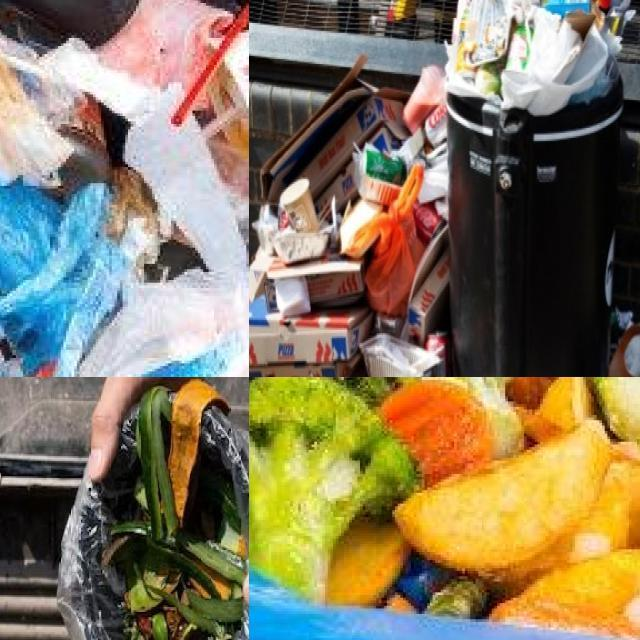Disposable: (360, 334, 438, 377), (356, 172, 400, 205)
Garbage: (249, 377, 640, 638), (249, 58, 449, 377), (448, 0, 631, 115)
Plastic_Bag: (346, 163, 424, 316)
Plastic_bottle: (505, 23, 534, 72)
Tetrapack: (542, 0, 590, 16)
can: (364, 145, 406, 185), (425, 332, 449, 377)
contaminated_waste: (0, 22, 249, 377)
